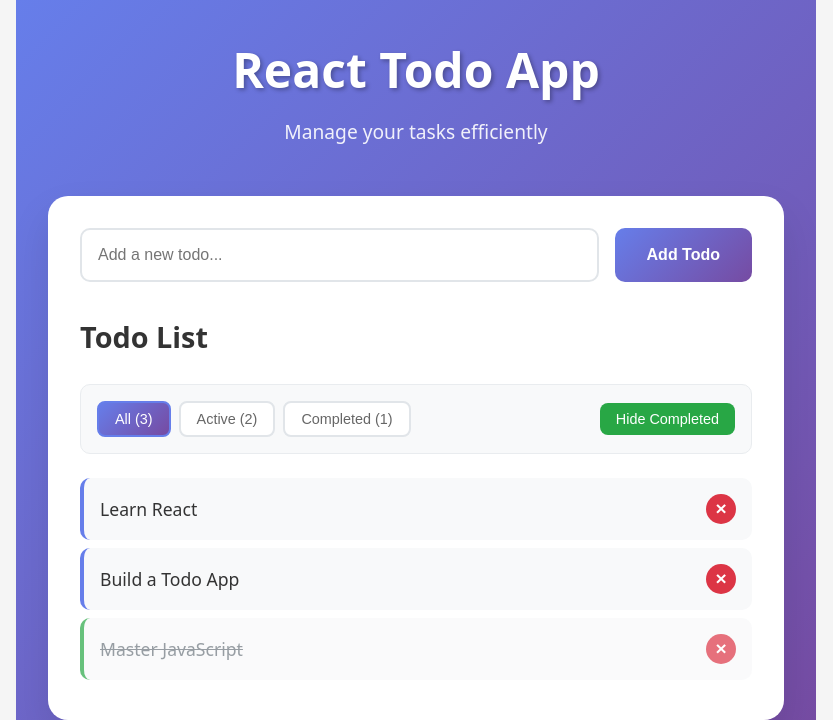
Test: TodoList Component › Deleting Todos › deletes a todo when delete button is clicked
Expected: the number of list items is 3, [80,478,752,540]; [80,548,752,610]; [80,618,752,680]
// Click delete button
Click the button named "delete todo".
click(721, 509)  # box [706,494,736,524]
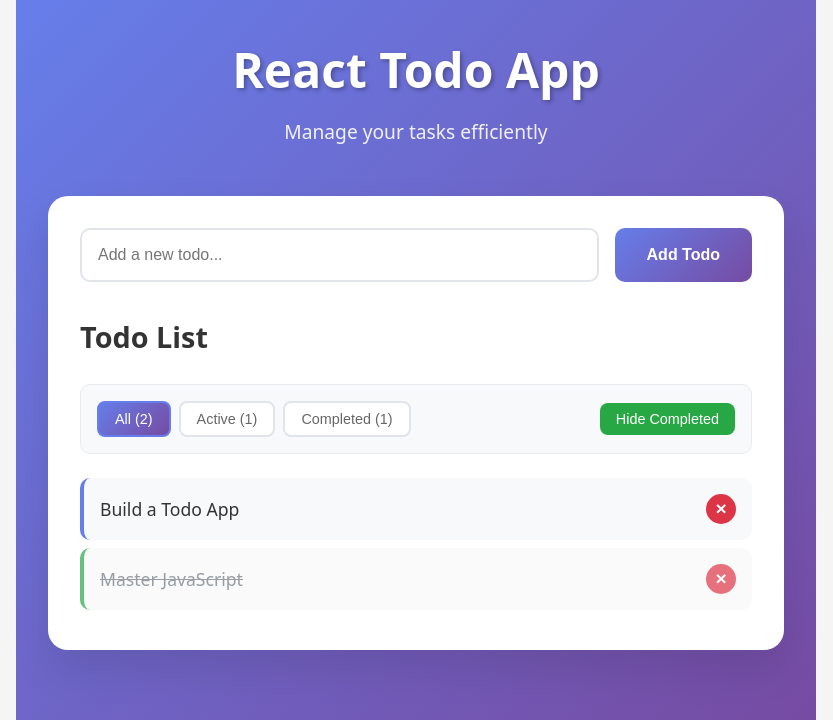
Result: the number of list items is 2 at [80,478,752,540]; [80,548,752,610]
Result: the text "Learn React" is gone
